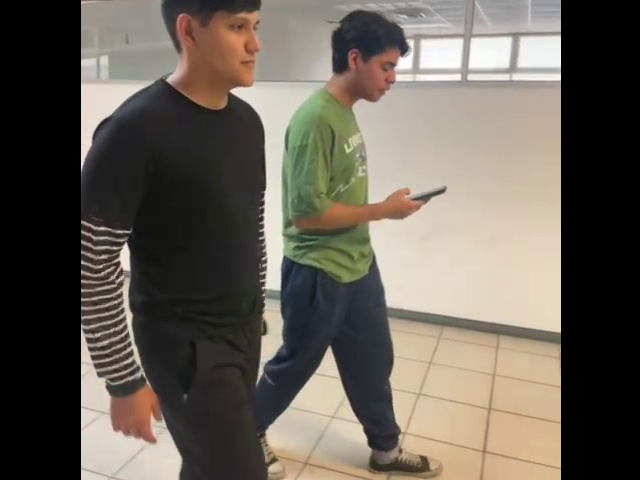mixto2: (401, 179, 449, 204)
